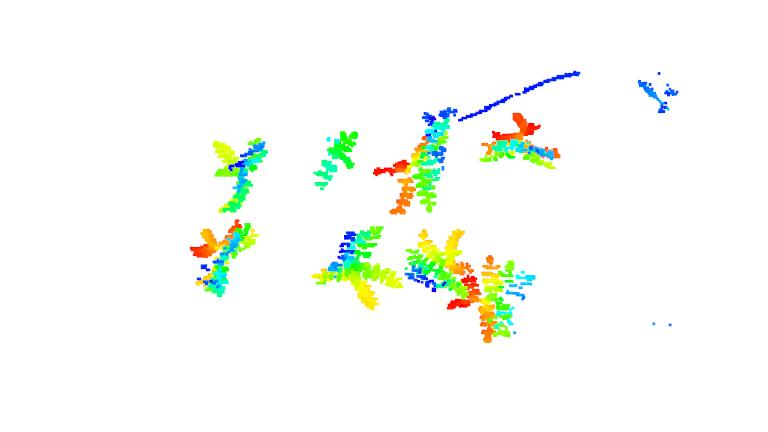chickpea: (373, 107, 460, 216), (445, 254, 540, 344), (314, 224, 405, 309), (189, 219, 259, 297), (404, 228, 475, 300), (208, 136, 271, 214), (477, 112, 562, 168), (312, 131, 360, 194)
